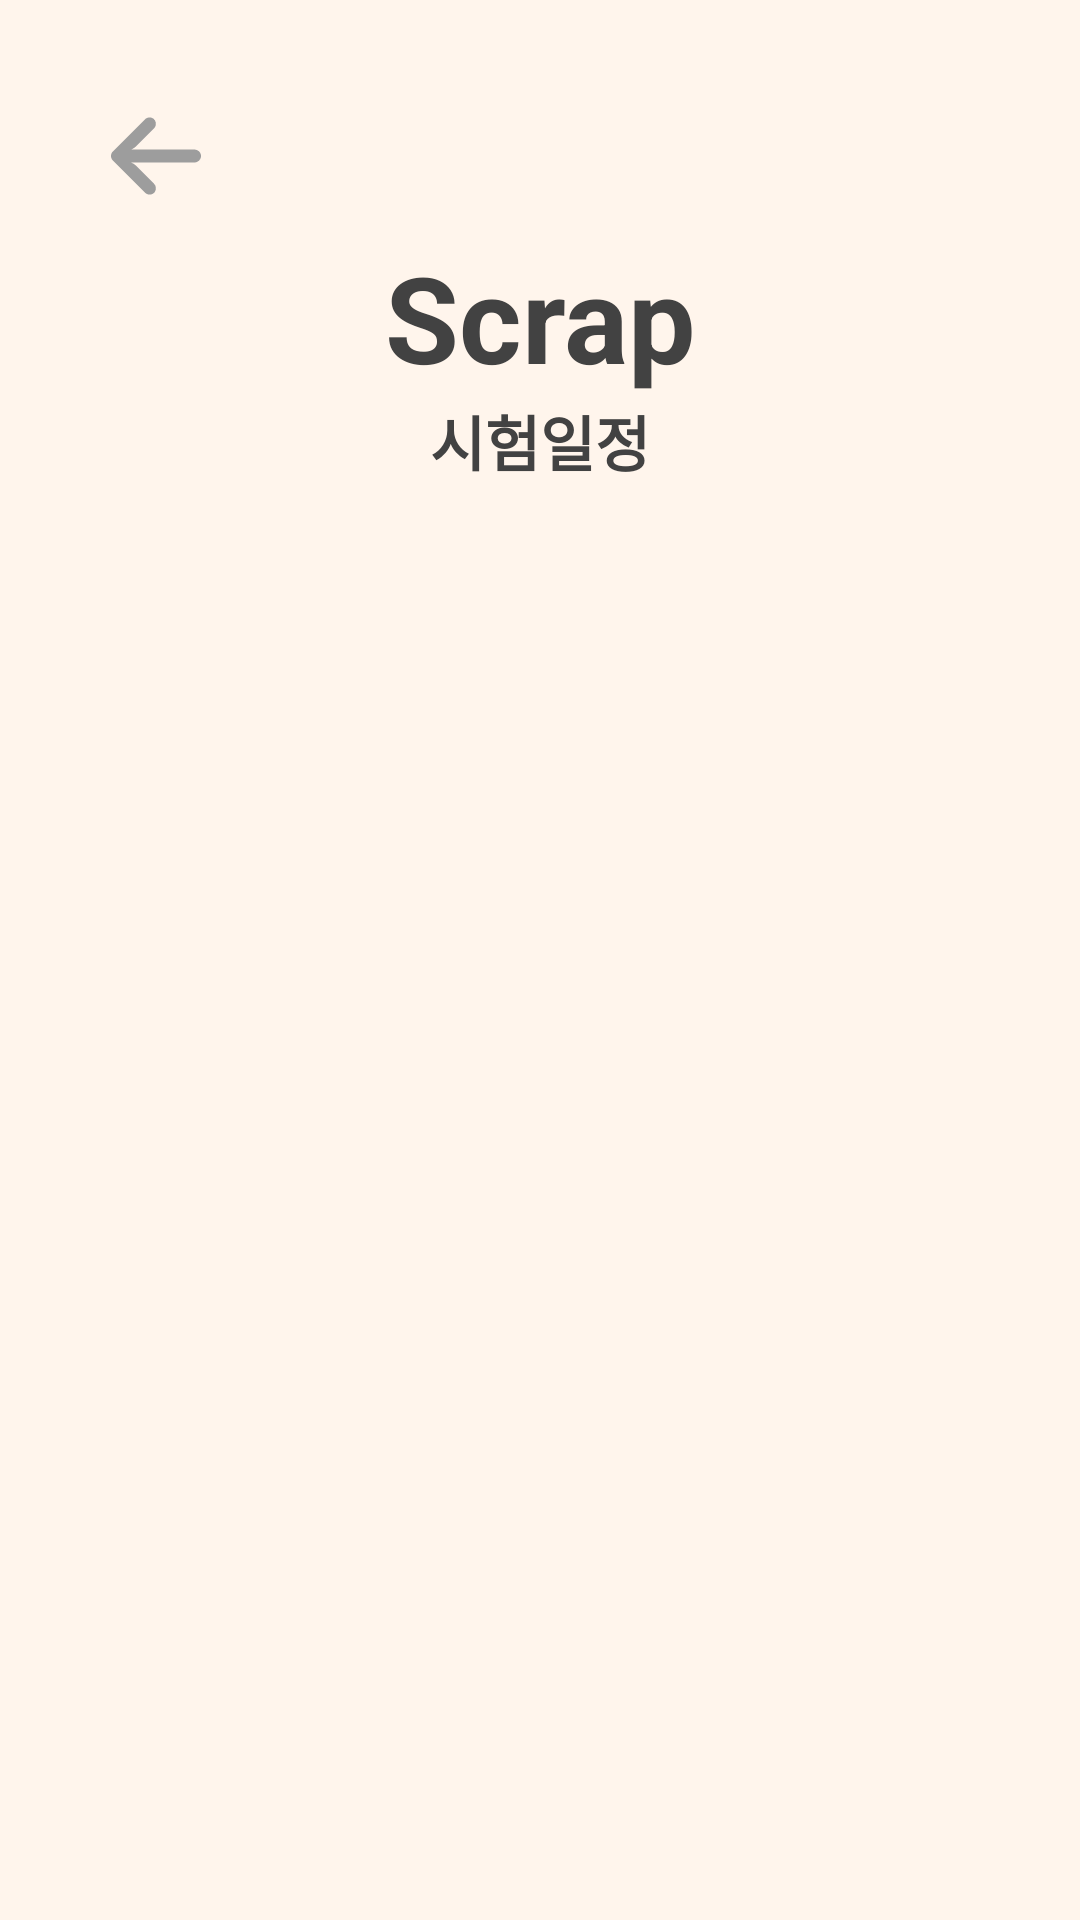

Icon bounding boxes for this 1080 × 1920 phone screenshot, format (x1, y1, x2, y2):
left arrow: (111, 117, 201, 195)
